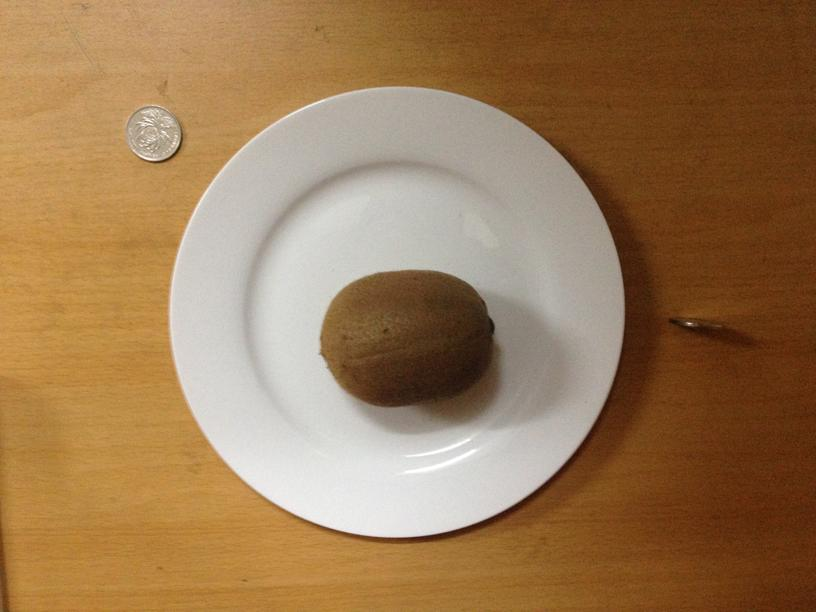coin: (126, 108, 183, 159)
qiwi: (317, 268, 495, 407)
